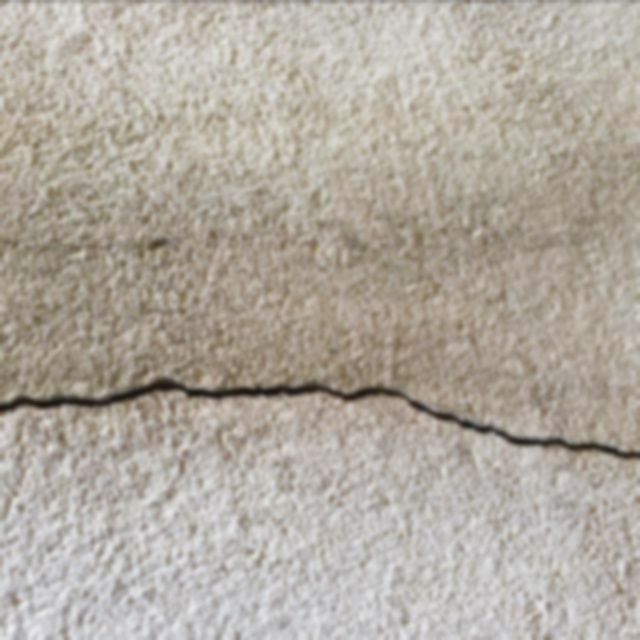SurfaceCrack: (0, 329, 639, 490)
